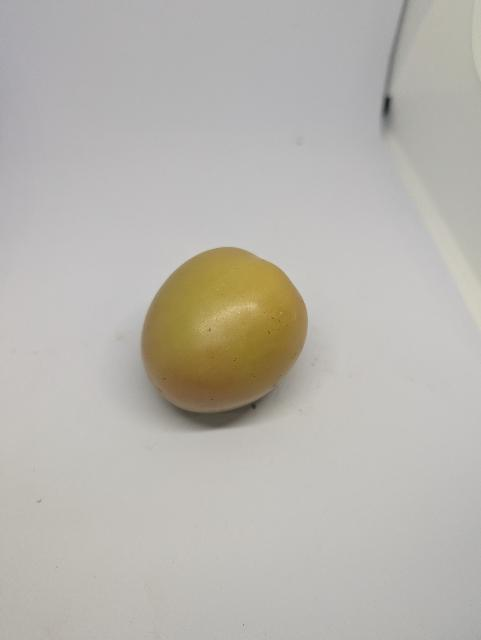turning: (134, 233, 326, 422)
